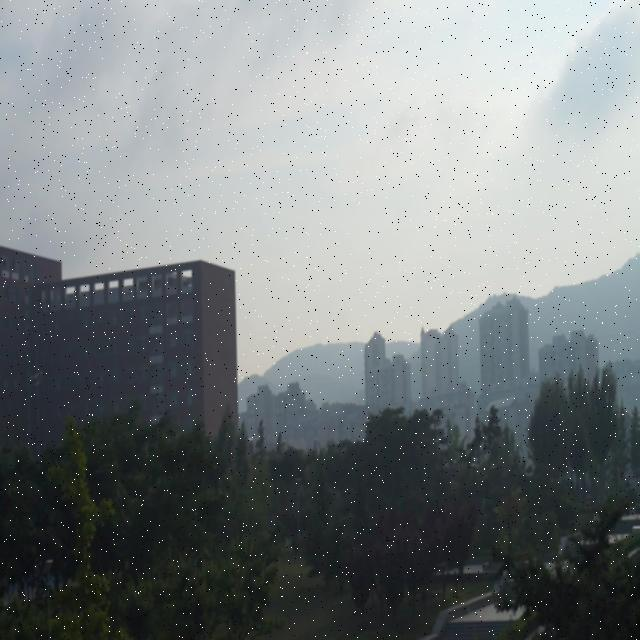UAV: (27, 371, 43, 385)
